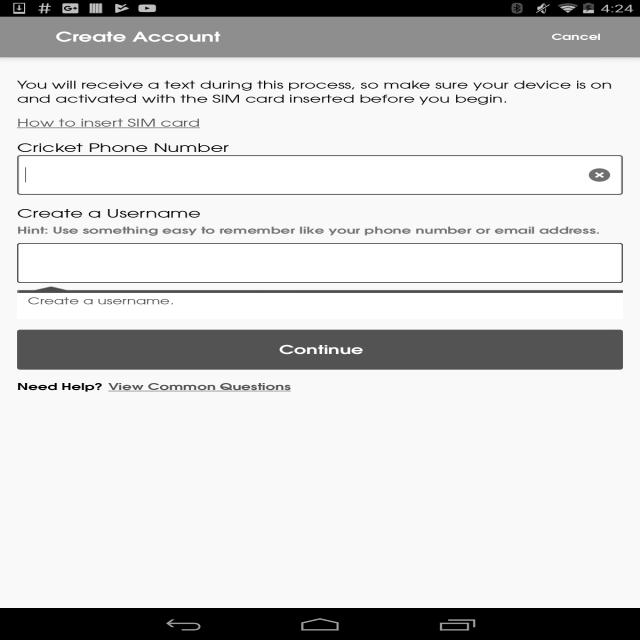Button: (17, 330, 623, 370)
EditText: (17, 243, 623, 283), (17, 155, 584, 195)
ImageView: (589, 168, 610, 182)
TextView: (17, 68, 623, 106), (17, 293, 623, 319), (17, 106, 623, 130), (17, 140, 623, 155), (17, 206, 623, 220), (34, 16, 221, 56), (17, 224, 623, 236), (491, 16, 606, 56), (108, 380, 291, 393), (17, 380, 108, 393)
